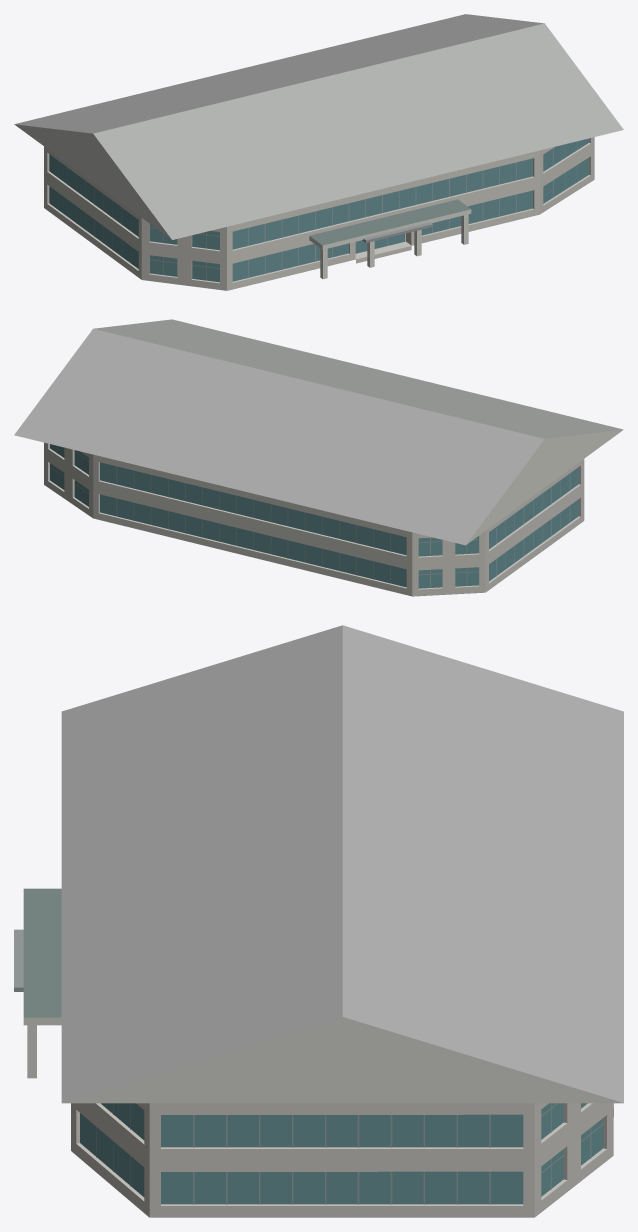
3 views of the same model, one above another, from view 1: azimuth 30°, elevation 25°; view 2: azimuth 150°, elevation 25°; view 3: azimuth 270°, elevation 25° (orthographic). The views are drawn at different scales.
Parts seen in each view (by area): view 1: hawaii__roofAccent, hawaii__glass, hawaii__wall, hawaii__trim, hawaii__roof, hawaii__frame, hawaii__column, hawaii__entranceThreshold, hawaii__canopy; view 2: hawaii__roofAccent, hawaii__wall, hawaii__glass, hawaii__trim, hawaii__frame; view 3: hawaii__roofAccent, hawaii__wall, hawaii__glass, hawaii__trim, hawaii__roof, hawaii__frame.
Part boxes in pixels (<box>): hawaii__roofAccent: <box>15,14,623,239</box>; hawaii__glass: <box>49,138,588,282</box>; hawaii__wall: <box>44,137,594,290</box>; hawaii__trim: <box>14,124,471,249</box>; hawaii__roof: <box>46,180,593,290</box>; hawaii__frame: <box>58,141,577,280</box>; hawaii__column: <box>320,214,468,279</box>; hawaii__entranceThreshold: <box>355,241,411,263</box>; hawaii__canopy: <box>362,222,432,242</box>; hawaii__roofAccent: <box>14,319,622,545</box>; hawaii__wall: <box>44,442,584,596</box>; hawaii__glass: <box>50,444,578,588</box>; hawaii__trim: <box>466,429,623,544</box>; hawaii__frame: <box>49,446,570,588</box>; hawaii__roofAccent: <box>61,625,623,1102</box>; hawaii__wall: <box>71,1103,613,1217</box>; hawaii__glass: <box>80,1103,603,1204</box>; hawaii__trim: <box>23,1017,623,1103</box>; hawaii__roof: <box>23,888,613,1217</box>; hawaii__frame: <box>96,1103,603,1204</box>.
Size of the model in its own units: 48.64 by 12.25 by 32.02.
